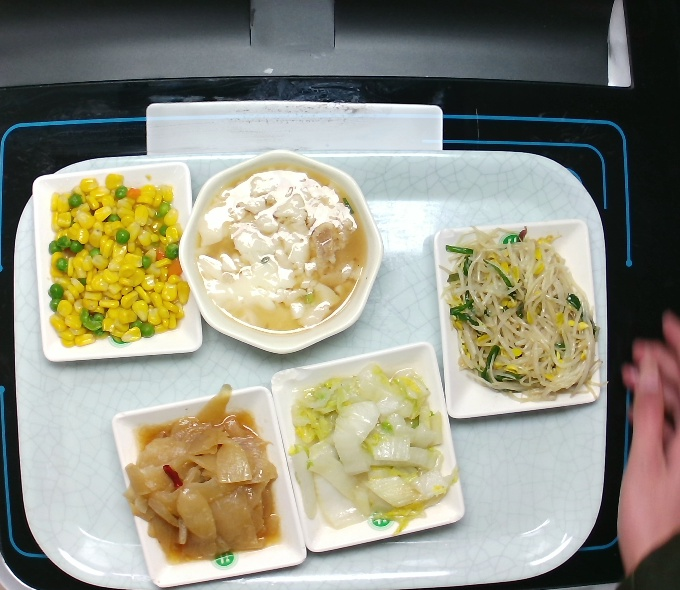wcq-DaBaiCai: (284, 357, 464, 541)
wcq-DongGua: (119, 380, 289, 566)
wcq-DouYa: (432, 220, 608, 409)
wcq-ShuiZhengDan: (188, 156, 375, 345)
wcq-TianMiTianDou: (45, 171, 195, 351)
